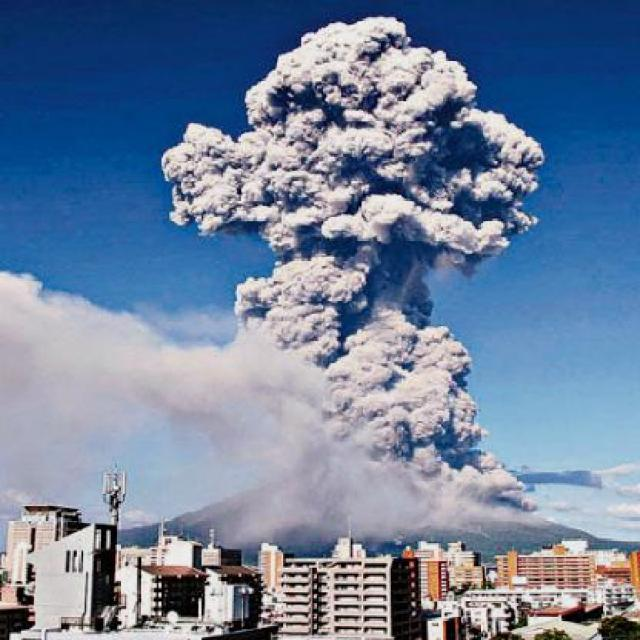Smoke: (0, 8, 542, 550)
